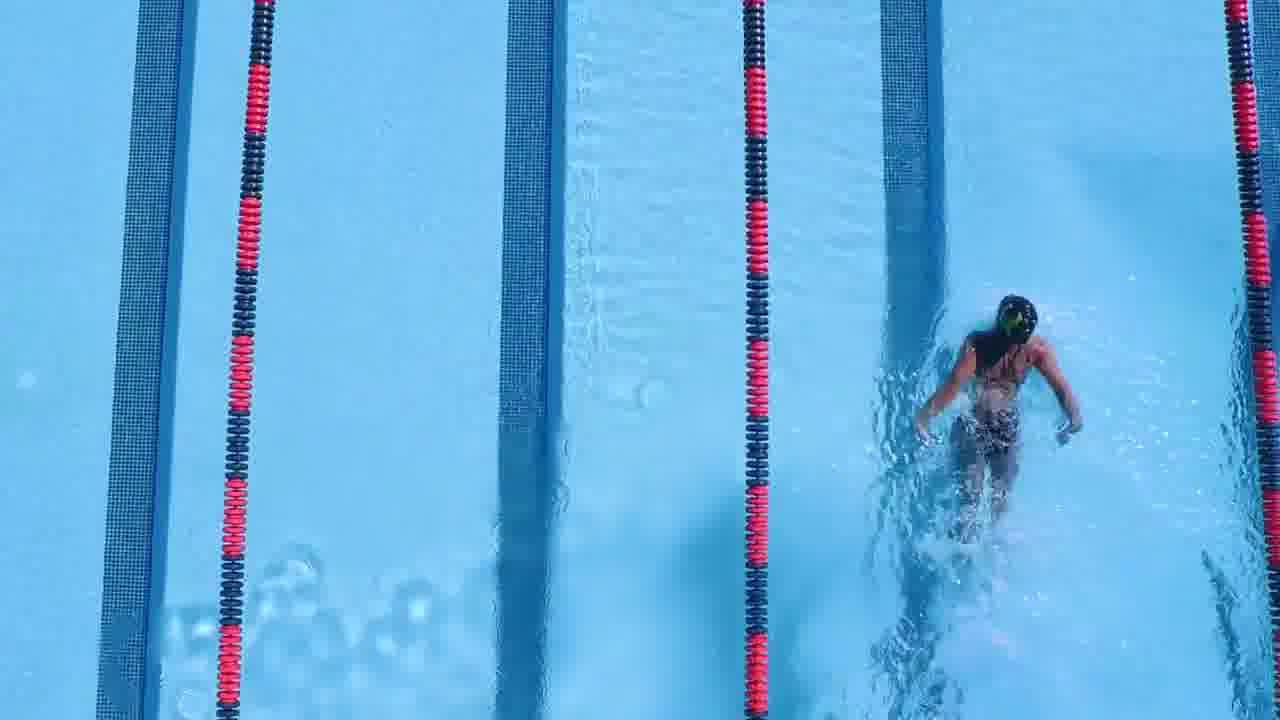swimmer: (909, 286, 1089, 540)
